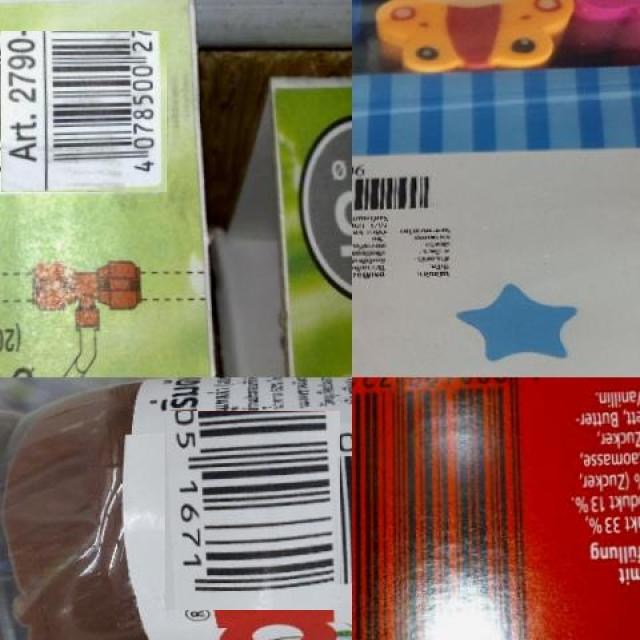Barcode: (352, 377, 567, 640), (159, 417, 346, 604), (0, 28, 165, 194), (352, 159, 451, 220)
